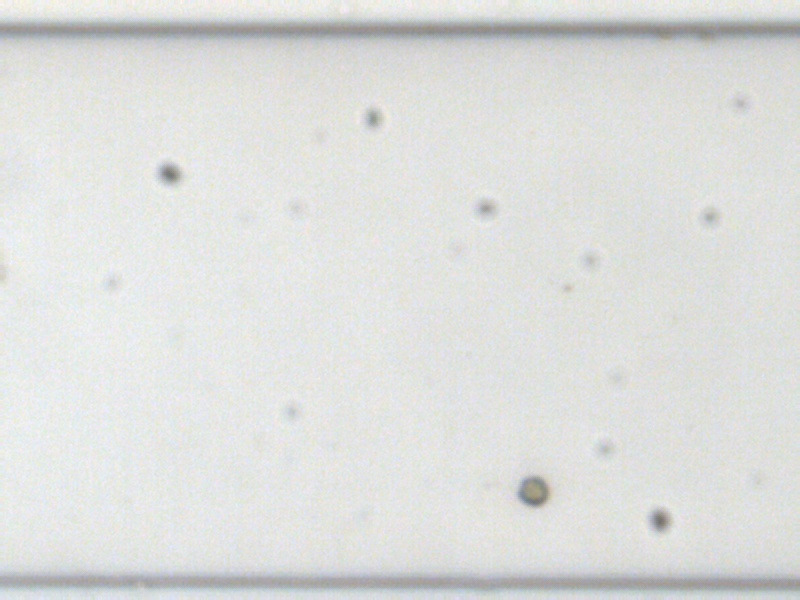Platymonas: (515, 474, 549, 505)
